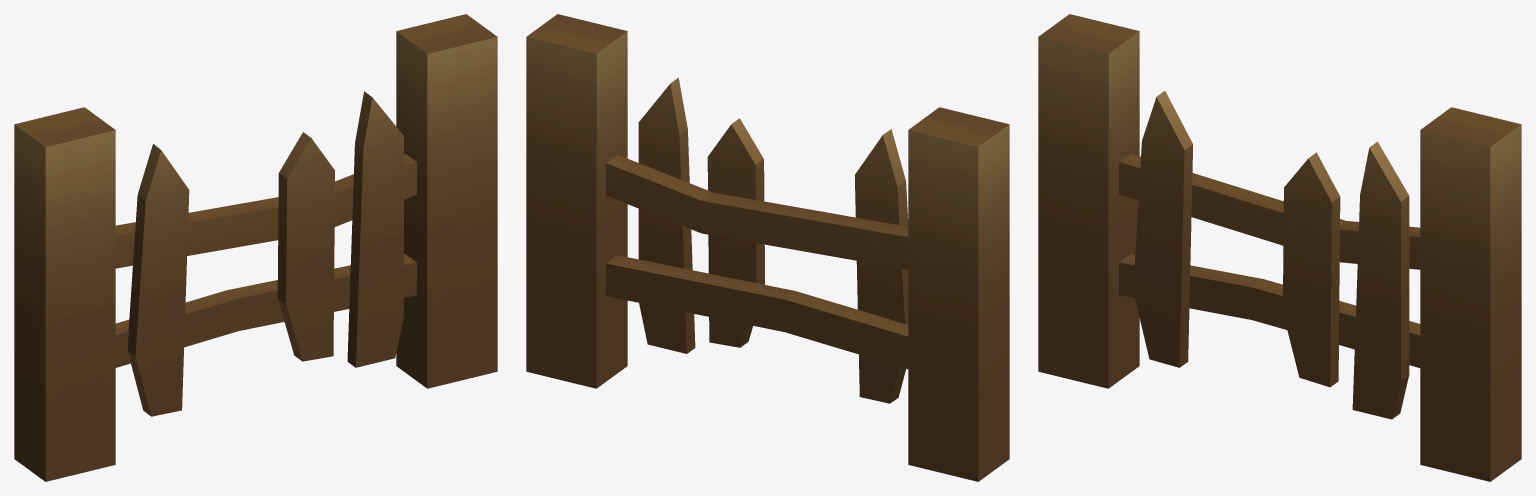
File: pack04_fences_19.fbx
The picture shows the model from 3 angles, left to right: view 1: azimuth 30°, elevation 25°; view 2: azimuth 150°, elevation 25°; view 3: azimuth 330°, elevation 25°; orthographic projection.
Visible parts, largest first — view 1: Small_Fence_06; view 2: Small_Fence_06; view 3: Small_Fence_06.
Boxes of the visible parts, left/top/right/bottom form: Small_Fence_06: left=14, top=14, right=497, bottom=481; Small_Fence_06: left=526, top=14, right=1009, bottom=481; Small_Fence_06: left=1038, top=14, right=1521, bottom=481.
Bounding box in the file's own units: 38.4 × 27.18 × 4.6.
Materials: 1 (1 with a texture image).
